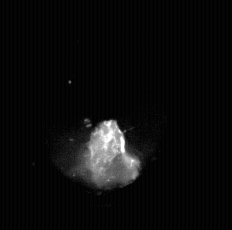arame: (94, 0, 119, 126)
poca: (52, 0, 157, 230)
